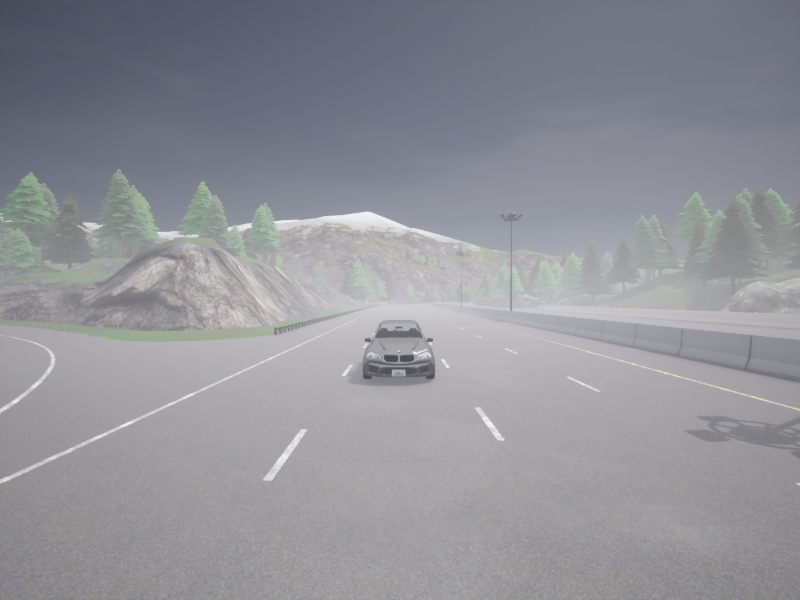vehicle: (363, 320, 434, 378), (474, 301, 476, 303)
